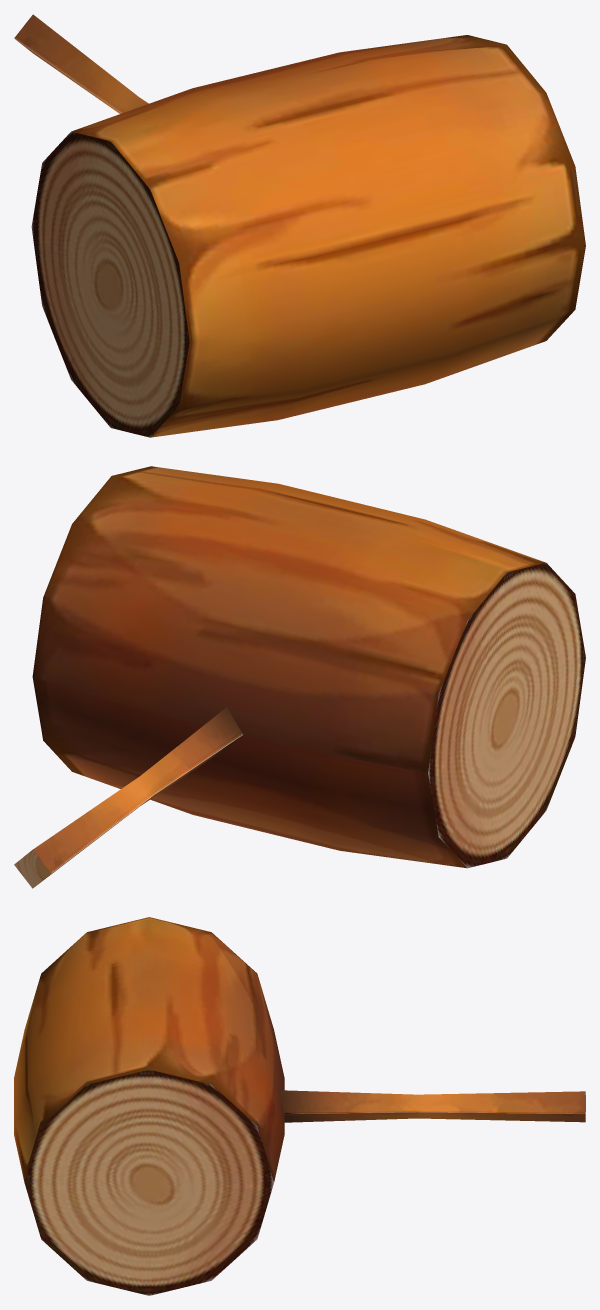
Rendered from hammer0019.fbx.
3 renders of one model, top to bottom at view 1: azimuth 30°, elevation 25°; view 2: azimuth 150°, elevation 25°; view 3: azimuth 270°, elevation 25°, orthographic. The views are drawn at different scales.
Parts seen in each view (by area): view 1: hammer0019_m; view 2: hammer0019_m; view 3: hammer0019_m.
Boxes of the visible parts, box(x1,y1,x2,y2) form: hammer0019_m: box(14, 14, 585, 437); hammer0019_m: box(14, 466, 585, 888); hammer0019_m: box(14, 917, 585, 1295).
Bounding box in the file's own units: 0.7568 × 0.5671 × 1.2.
